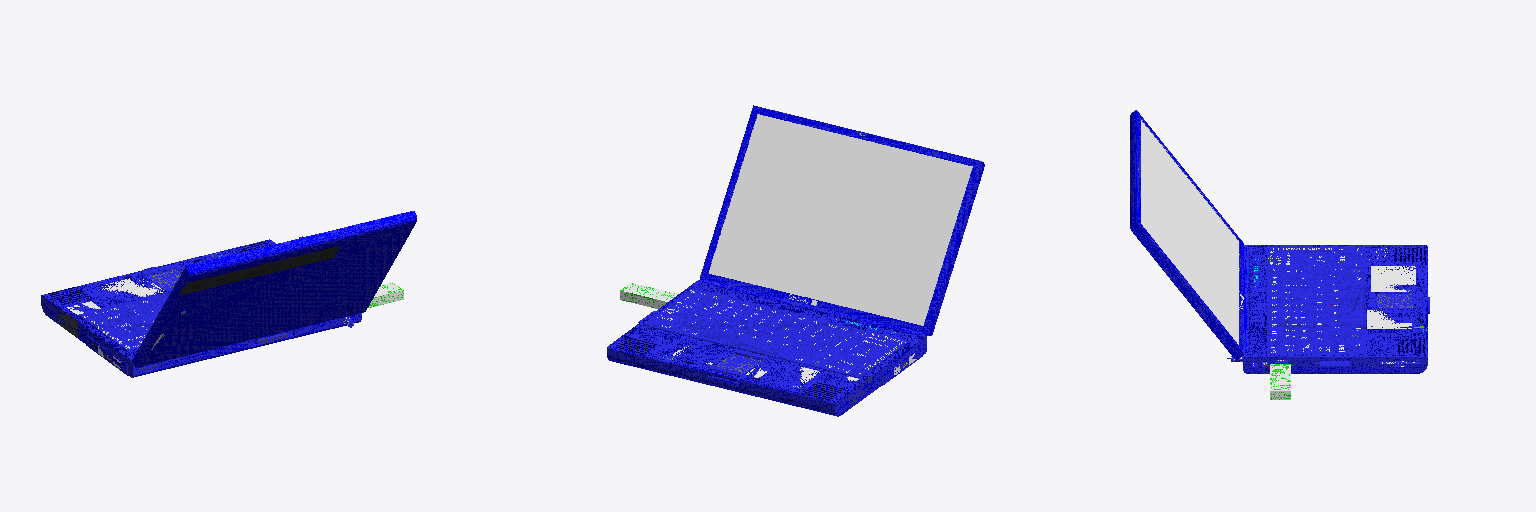
3 views of the same model, side by side, from view 1: azimuth 30°, elevation 25°; view 2: azimuth 150°, elevation 25°; view 3: azimuth 270°, elevation 25° (orthographic).
Parts seen in each view (by area): view 1: mesh273_mesh273-geometry, mesh271_mesh271-geometry, mesh287_mesh287-geometry; view 2: mesh273_mesh273-geometry, mesh271_mesh271-geometry; view 3: mesh271_mesh271-geometry, mesh273_mesh273-geometry, mesh294_mesh294-geometry.
Part boxes in pixels (x1,y1,x2,y2): mesh273_mesh273-geometry: (132, 211, 416, 367); mesh271_mesh271-geometry: (41, 239, 403, 377); mesh287_mesh287-geometry: (178, 246, 339, 295); mesh273_mesh273-geometry: (700, 105, 984, 335); mesh271_mesh271-geometry: (607, 280, 926, 416); mesh271_mesh271-geometry: (1227, 245, 1429, 399); mesh273_mesh273-geometry: (1130, 110, 1243, 359); mesh294_mesh294-geometry: (1371, 266, 1415, 291).
Bounding box in the file's own units: 0.6913 × 0.3572 × 0.6281.
Materials: 61 (5 with a texture image).